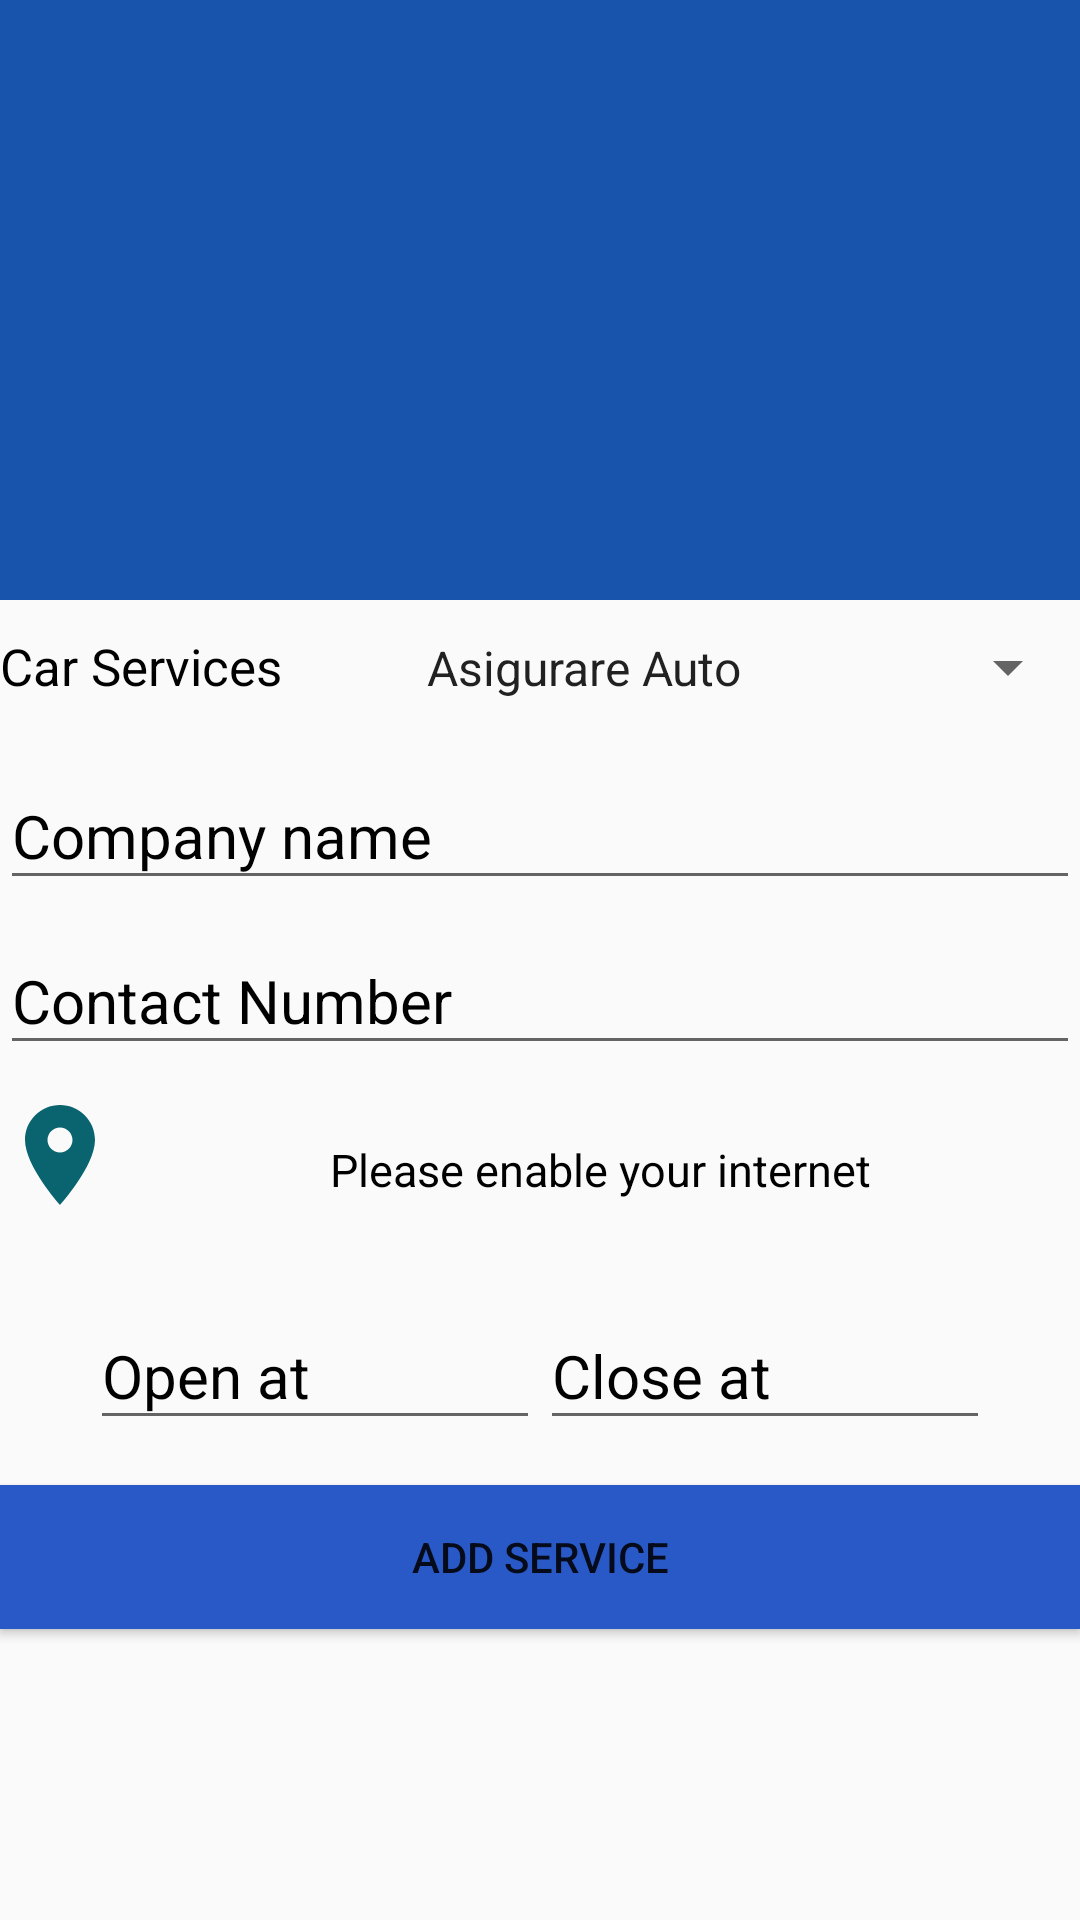

Locate icon controls on the screen. Image size 1080x1920, boxes as (x1, y1, x2, y2).
location on: (25, 1105, 95, 1205)
